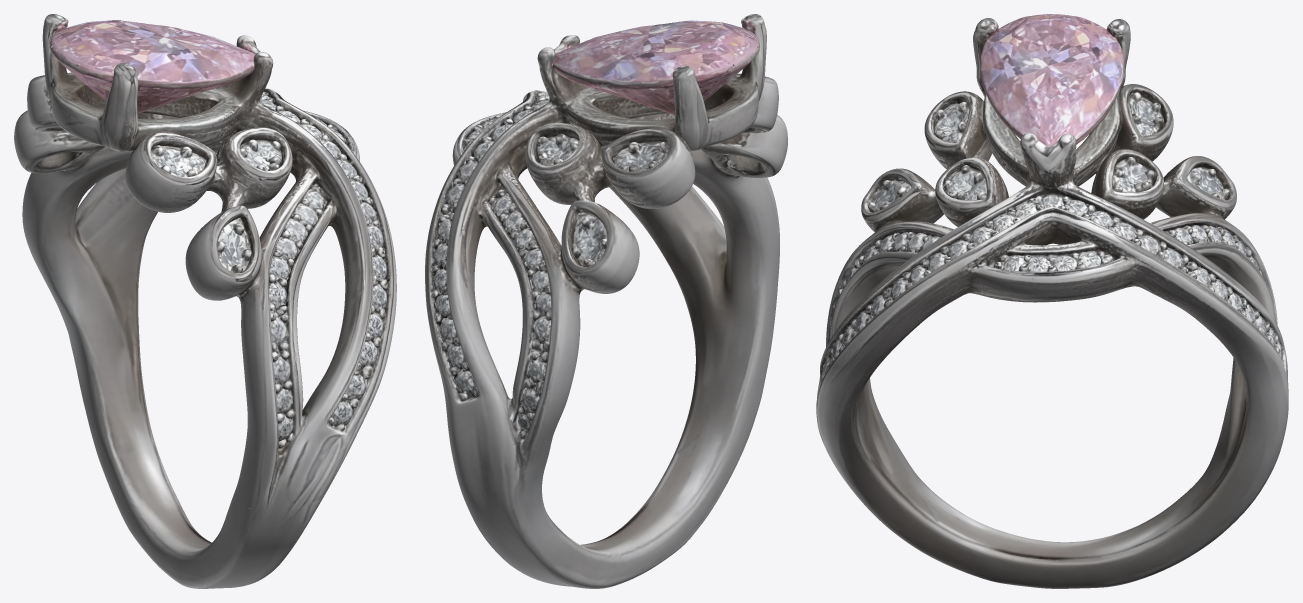
The model's file is mountain-soul.glb.
3 views of the same model, side by side, from view 1: azimuth 30°, elevation 25°; view 2: azimuth 150°, elevation 25°; view 3: azimuth 270°, elevation 25° (orthographic). The views are drawn at different scales.
Visible parts, largest first — view 1: tripo_node_4cc58f3a-78d0-424f-ba25-549aecb0f318; view 2: tripo_node_4cc58f3a-78d0-424f-ba25-549aecb0f318; view 3: tripo_node_4cc58f3a-78d0-424f-ba25-549aecb0f318.
Part boxes in pixels (box(x1,y1,x2,y2)): tripo_node_4cc58f3a-78d0-424f-ba25-549aecb0f318: box(14, 14, 396, 588); tripo_node_4cc58f3a-78d0-424f-ba25-549aecb0f318: box(425, 14, 787, 588); tripo_node_4cc58f3a-78d0-424f-ba25-549aecb0f318: box(816, 14, 1288, 588).
Size of the model in its own units: 0.5251 by 0.9802 by 0.8021.
Materials: 1 (1 with a texture image).
